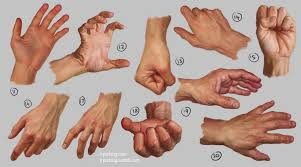hand: (4, 3, 70, 89), (216, 94, 295, 163), (167, 0, 243, 62), (3, 93, 66, 162), (195, 59, 270, 114), (119, 95, 188, 154), (76, 3, 127, 79), (251, 1, 300, 77), (68, 105, 116, 155), (133, 49, 178, 99)
